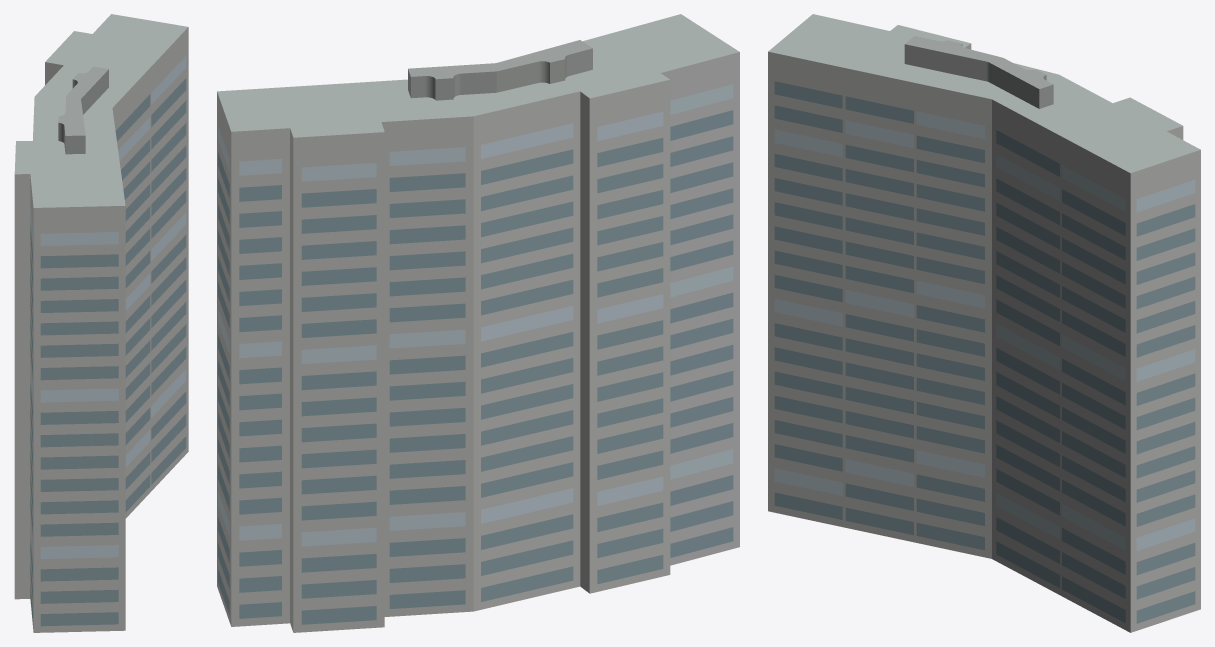
File: fallback-gaepo-raemian-forest-completion-130.glb
The picture shows the model from 3 angles, left to right: view 1: azimuth 30°, elevation 25°; view 2: azimuth 150°, elevation 25°; view 3: azimuth 270°, elevation 25°; orthographic projection. The views are drawn at different scales.
Visible parts, largest first — view 1: fallback-gaepo-raemian-forest-completion-130; view 2: fallback-gaepo-raemian-forest-completion-130; view 3: fallback-gaepo-raemian-forest-completion-130.
Boxes of the visible parts, left/top/right/bottom form: fallback-gaepo-raemian-forest-completion-130: left=14, top=14, right=188, bottom=632; fallback-gaepo-raemian-forest-completion-130: left=217, top=14, right=739, bottom=632; fallback-gaepo-raemian-forest-completion-130: left=768, top=14, right=1200, bottom=632.
Bounding box in the file's own units: 41.33 × 58 × 47.46.
